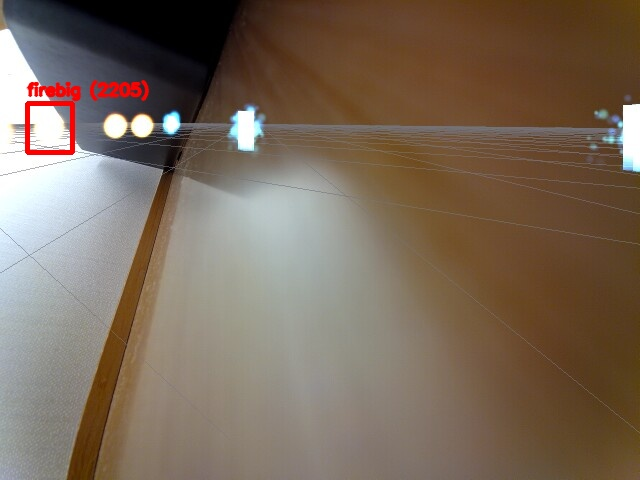firebig: (27, 103, 72, 152)
